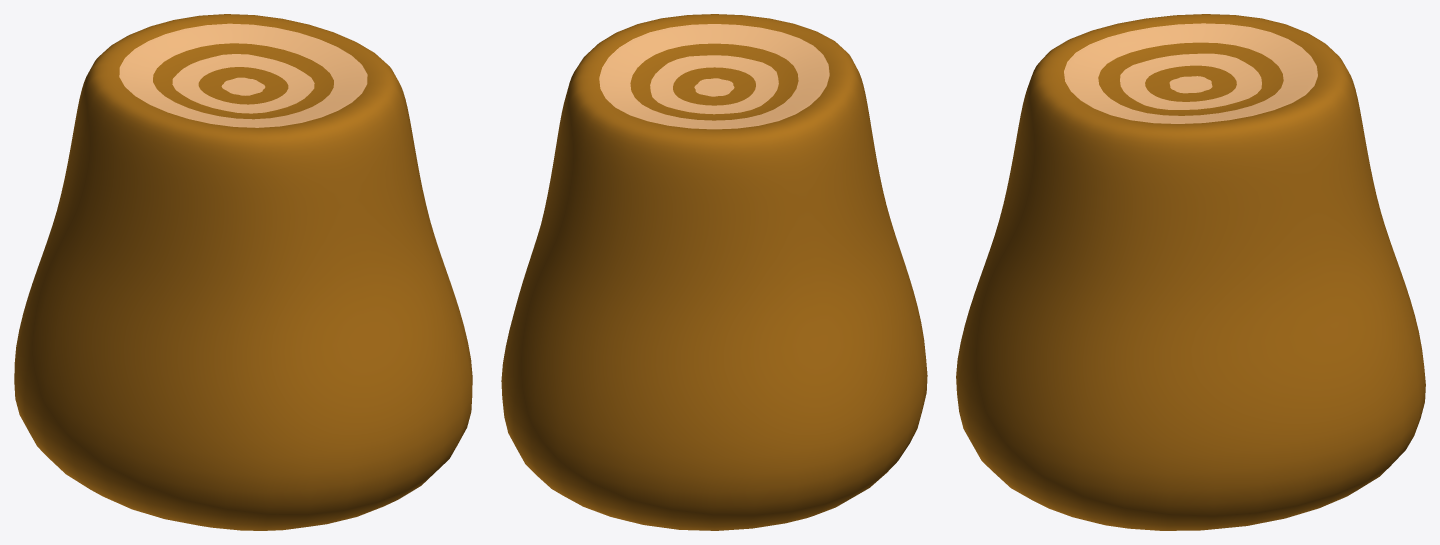
The model's file is Tree_Stump.fbx.
3 views of the same model, side by side, from view 1: azimuth 30°, elevation 25°; view 2: azimuth 150°, elevation 25°; view 3: azimuth 270°, elevation 25° (orthographic).
Parts seen in each view (by area): view 1: Tree_Stump; view 2: Tree_Stump; view 3: Tree_Stump.
Part boxes in pixels (x1=…): Tree_Stump: x1=14, y1=14, x2=472, y2=530; Tree_Stump: x1=501, y1=14, x2=927, y2=530; Tree_Stump: x1=956, y1=14, x2=1425, y2=530.
Size of the model in its own units: 0.6725 by 0.698 by 0.7177.
